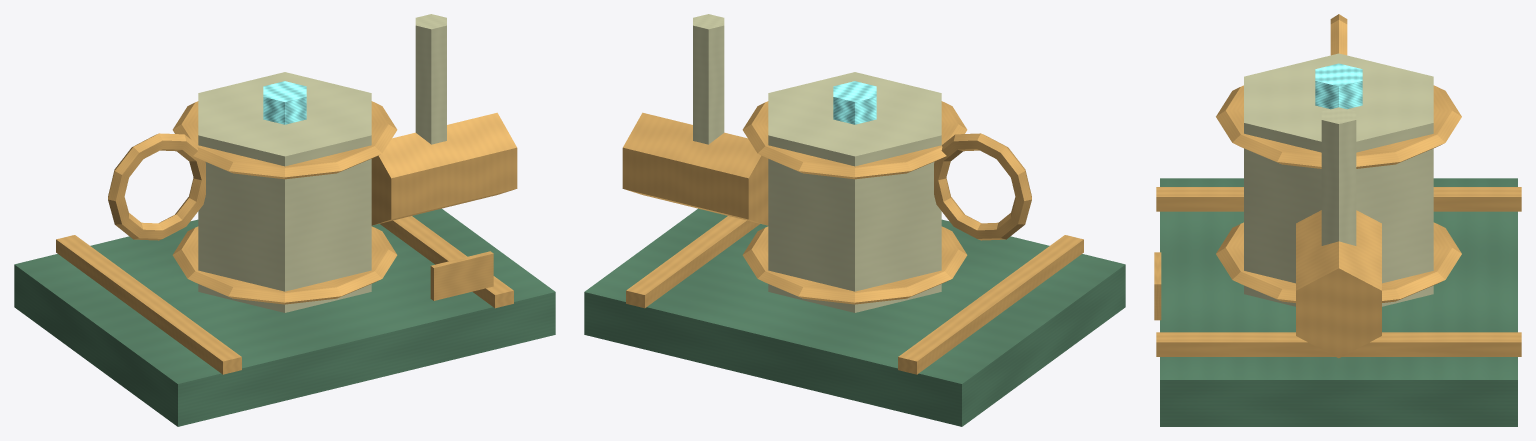
Rendered from atlas100-s005-a02.lod1.glb.
3 views of the same model, side by side, from view 1: azimuth 30°, elevation 25°; view 2: azimuth 150°, elevation 25°; view 3: azimuth 270°, elevation 25° (orthographic). The views are drawn at different scales.
Visible parts, largest first — view 1: atlas100-s005-a02:part-000, atlas100-s005-a02:part-003, atlas100-s005-a02:part-007, atlas100-s005-a02:part-001, atlas100-s005-a02:part-004, atlas100-s005-a02:part-005, atlas100-s005-a02:part-009, atlas100-s005-a02:part-008, atlas100-s005-a02:part-002, atlas100-s005-a02:part-010, atlas100-s005-a02:part-006; view 2: atlas100-s005-a02:part-000, atlas100-s005-a02:part-003, atlas100-s005-a02:part-007, atlas100-s005-a02:part-001, atlas100-s005-a02:part-004, atlas100-s005-a02:part-005, atlas100-s005-a02:part-009, atlas100-s005-a02:part-008, atlas100-s005-a02:part-002, atlas100-s005-a02:part-006; view 3: atlas100-s005-a02:part-000, atlas100-s005-a02:part-003, atlas100-s005-a02:part-007, atlas100-s005-a02:part-002, atlas100-s005-a02:part-005, atlas100-s005-a02:part-008, atlas100-s005-a02:part-001, atlas100-s005-a02:part-004, atlas100-s005-a02:part-006, atlas100-s005-a02:part-009, atlas100-s005-a02:part-010.
Boxes of the visible parts, <box> form: atlas100-s005-a02:part-000: <box>14,208,555,426</box>; atlas100-s005-a02:part-003: <box>198,72,371,312</box>; atlas100-s005-a02:part-007: <box>371,112,517,225</box>; atlas100-s005-a02:part-001: <box>56,235,241,374</box>; atlas100-s005-a02:part-004: <box>172,226,397,304</box>; atlas100-s005-a02:part-005: <box>172,101,397,179</box>; atlas100-s005-a02:part-009: <box>108,133,205,240</box>; atlas100-s005-a02:part-008: <box>415,14,446,144</box>; atlas100-s005-a02:part-002: <box>380,216,513,308</box>; atlas100-s005-a02:part-010: <box>430,251,493,300</box>; atlas100-s005-a02:part-006: <box>263,81,306,124</box>; atlas100-s005-a02:part-000: <box>584,208,1125,426</box>; atlas100-s005-a02:part-003: <box>768,72,941,312</box>; atlas100-s005-a02:part-007: <box>622,112,768,225</box>; atlas100-s005-a02:part-001: <box>898,235,1083,374</box>; atlas100-s005-a02:part-004: <box>742,226,967,304</box>; atlas100-s005-a02:part-005: <box>742,101,967,179</box>; atlas100-s005-a02:part-009: <box>934,133,1031,240</box>; atlas100-s005-a02:part-008: <box>693,14,724,144</box>; atlas100-s005-a02:part-002: <box>626,216,759,308</box>; atlas100-s005-a02:part-006: <box>833,81,876,124</box>; atlas100-s005-a02:part-000: <box>1160,178,1517,426</box>; atlas100-s005-a02:part-003: <box>1244,53,1433,306</box>; atlas100-s005-a02:part-007: <box>1296,210,1381,358</box>; atlas100-s005-a02:part-002: <box>1156,332,1521,356</box>; atlas100-s005-a02:part-005: <box>1216,85,1461,168</box>; atlas100-s005-a02:part-008: <box>1321,107,1356,245</box>; atlas100-s005-a02:part-001: <box>1156,187,1521,211</box>; atlas100-s005-a02:part-004: <box>1216,222,1461,302</box>; atlas100-s005-a02:part-006: <box>1315,63,1362,109</box>; atlas100-s005-a02:part-009: <box>1330,14,1347,55</box>; atlas100-s005-a02:part-010: <box>1154,252,1161,320</box>.
Bounding box in the file's own units: 2.55 × 1.6 × 1.85.
Materials: 4 (4 with a texture image).
